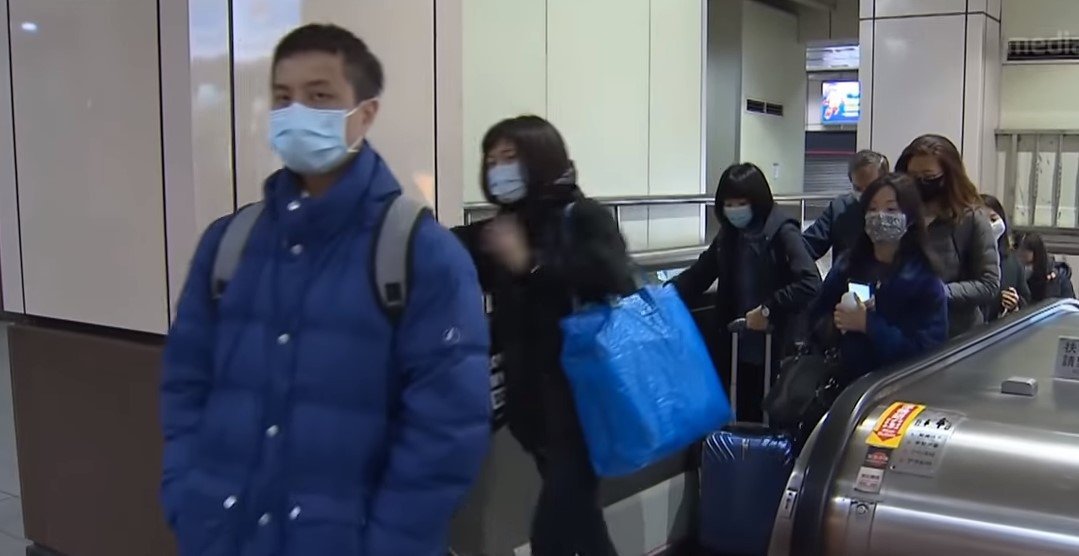face_with_mask: (260, 23, 383, 177), (486, 129, 561, 204), (860, 173, 915, 252), (905, 135, 967, 201), (715, 170, 770, 232)
